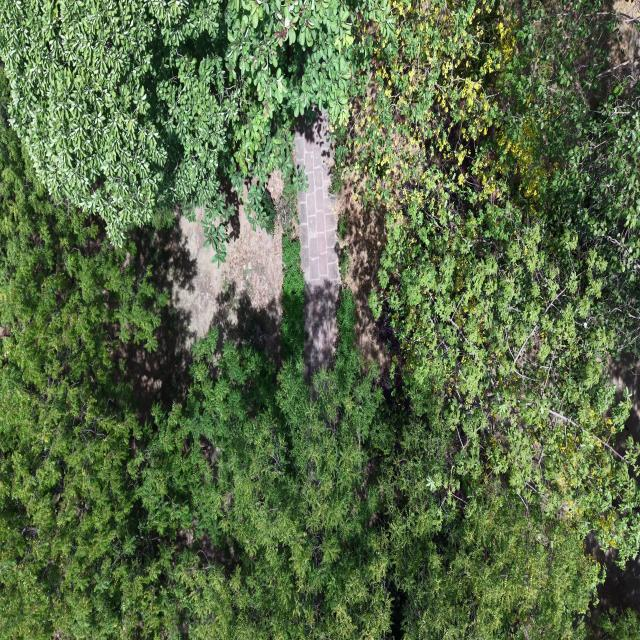DRY_AREA: (123, 203, 282, 419), (122, 206, 282, 420), (122, 207, 282, 418), (295, 117, 398, 383), (295, 112, 389, 374), (296, 121, 393, 372), (295, 114, 383, 375), (173, 202, 283, 360), (173, 207, 282, 353), (330, 156, 397, 384), (336, 156, 401, 383), (337, 176, 396, 377), (296, 120, 335, 367), (121, 303, 193, 422), (295, 112, 340, 285), (609, 355, 639, 454), (609, 355, 639, 452), (610, 355, 639, 453), (610, 355, 639, 441), (611, 0, 639, 82)
PATHWAYS: (295, 112, 340, 373)
VEGETATION_TREE: (0, 0, 639, 639), (0, 243, 597, 638), (0, 124, 392, 638), (340, 2, 639, 637), (349, 2, 639, 557), (0, 0, 390, 245), (0, 112, 166, 637), (140, 299, 393, 638), (383, 414, 599, 639), (281, 233, 304, 360), (596, 609, 639, 639)
